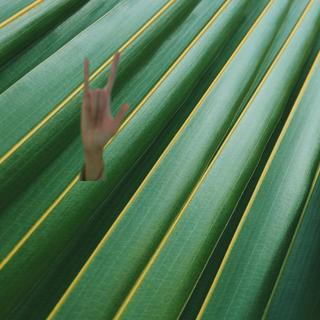ILY: (74, 48, 133, 151)
